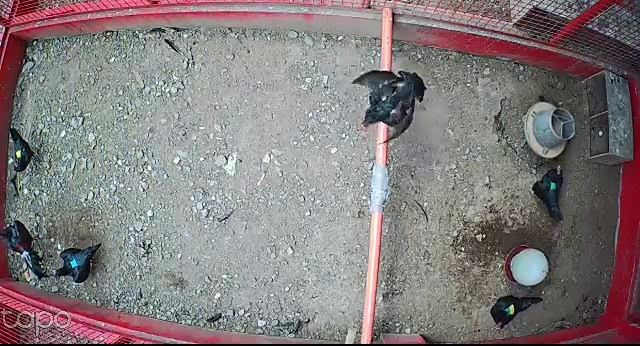Chicken: (348, 65, 429, 146), (482, 289, 548, 332), (51, 240, 102, 287), (527, 165, 568, 223), (7, 126, 41, 173)
Drinker: (504, 245, 549, 286)
Feeder: (523, 103, 575, 160)
Rooster: (0, 218, 51, 281)
Saddle_Color_Blue: (68, 255, 78, 270)
Saddle_Color_Yellow: (15, 150, 22, 159)
Saddle_Color_YellowGreen: (503, 303, 514, 314)
